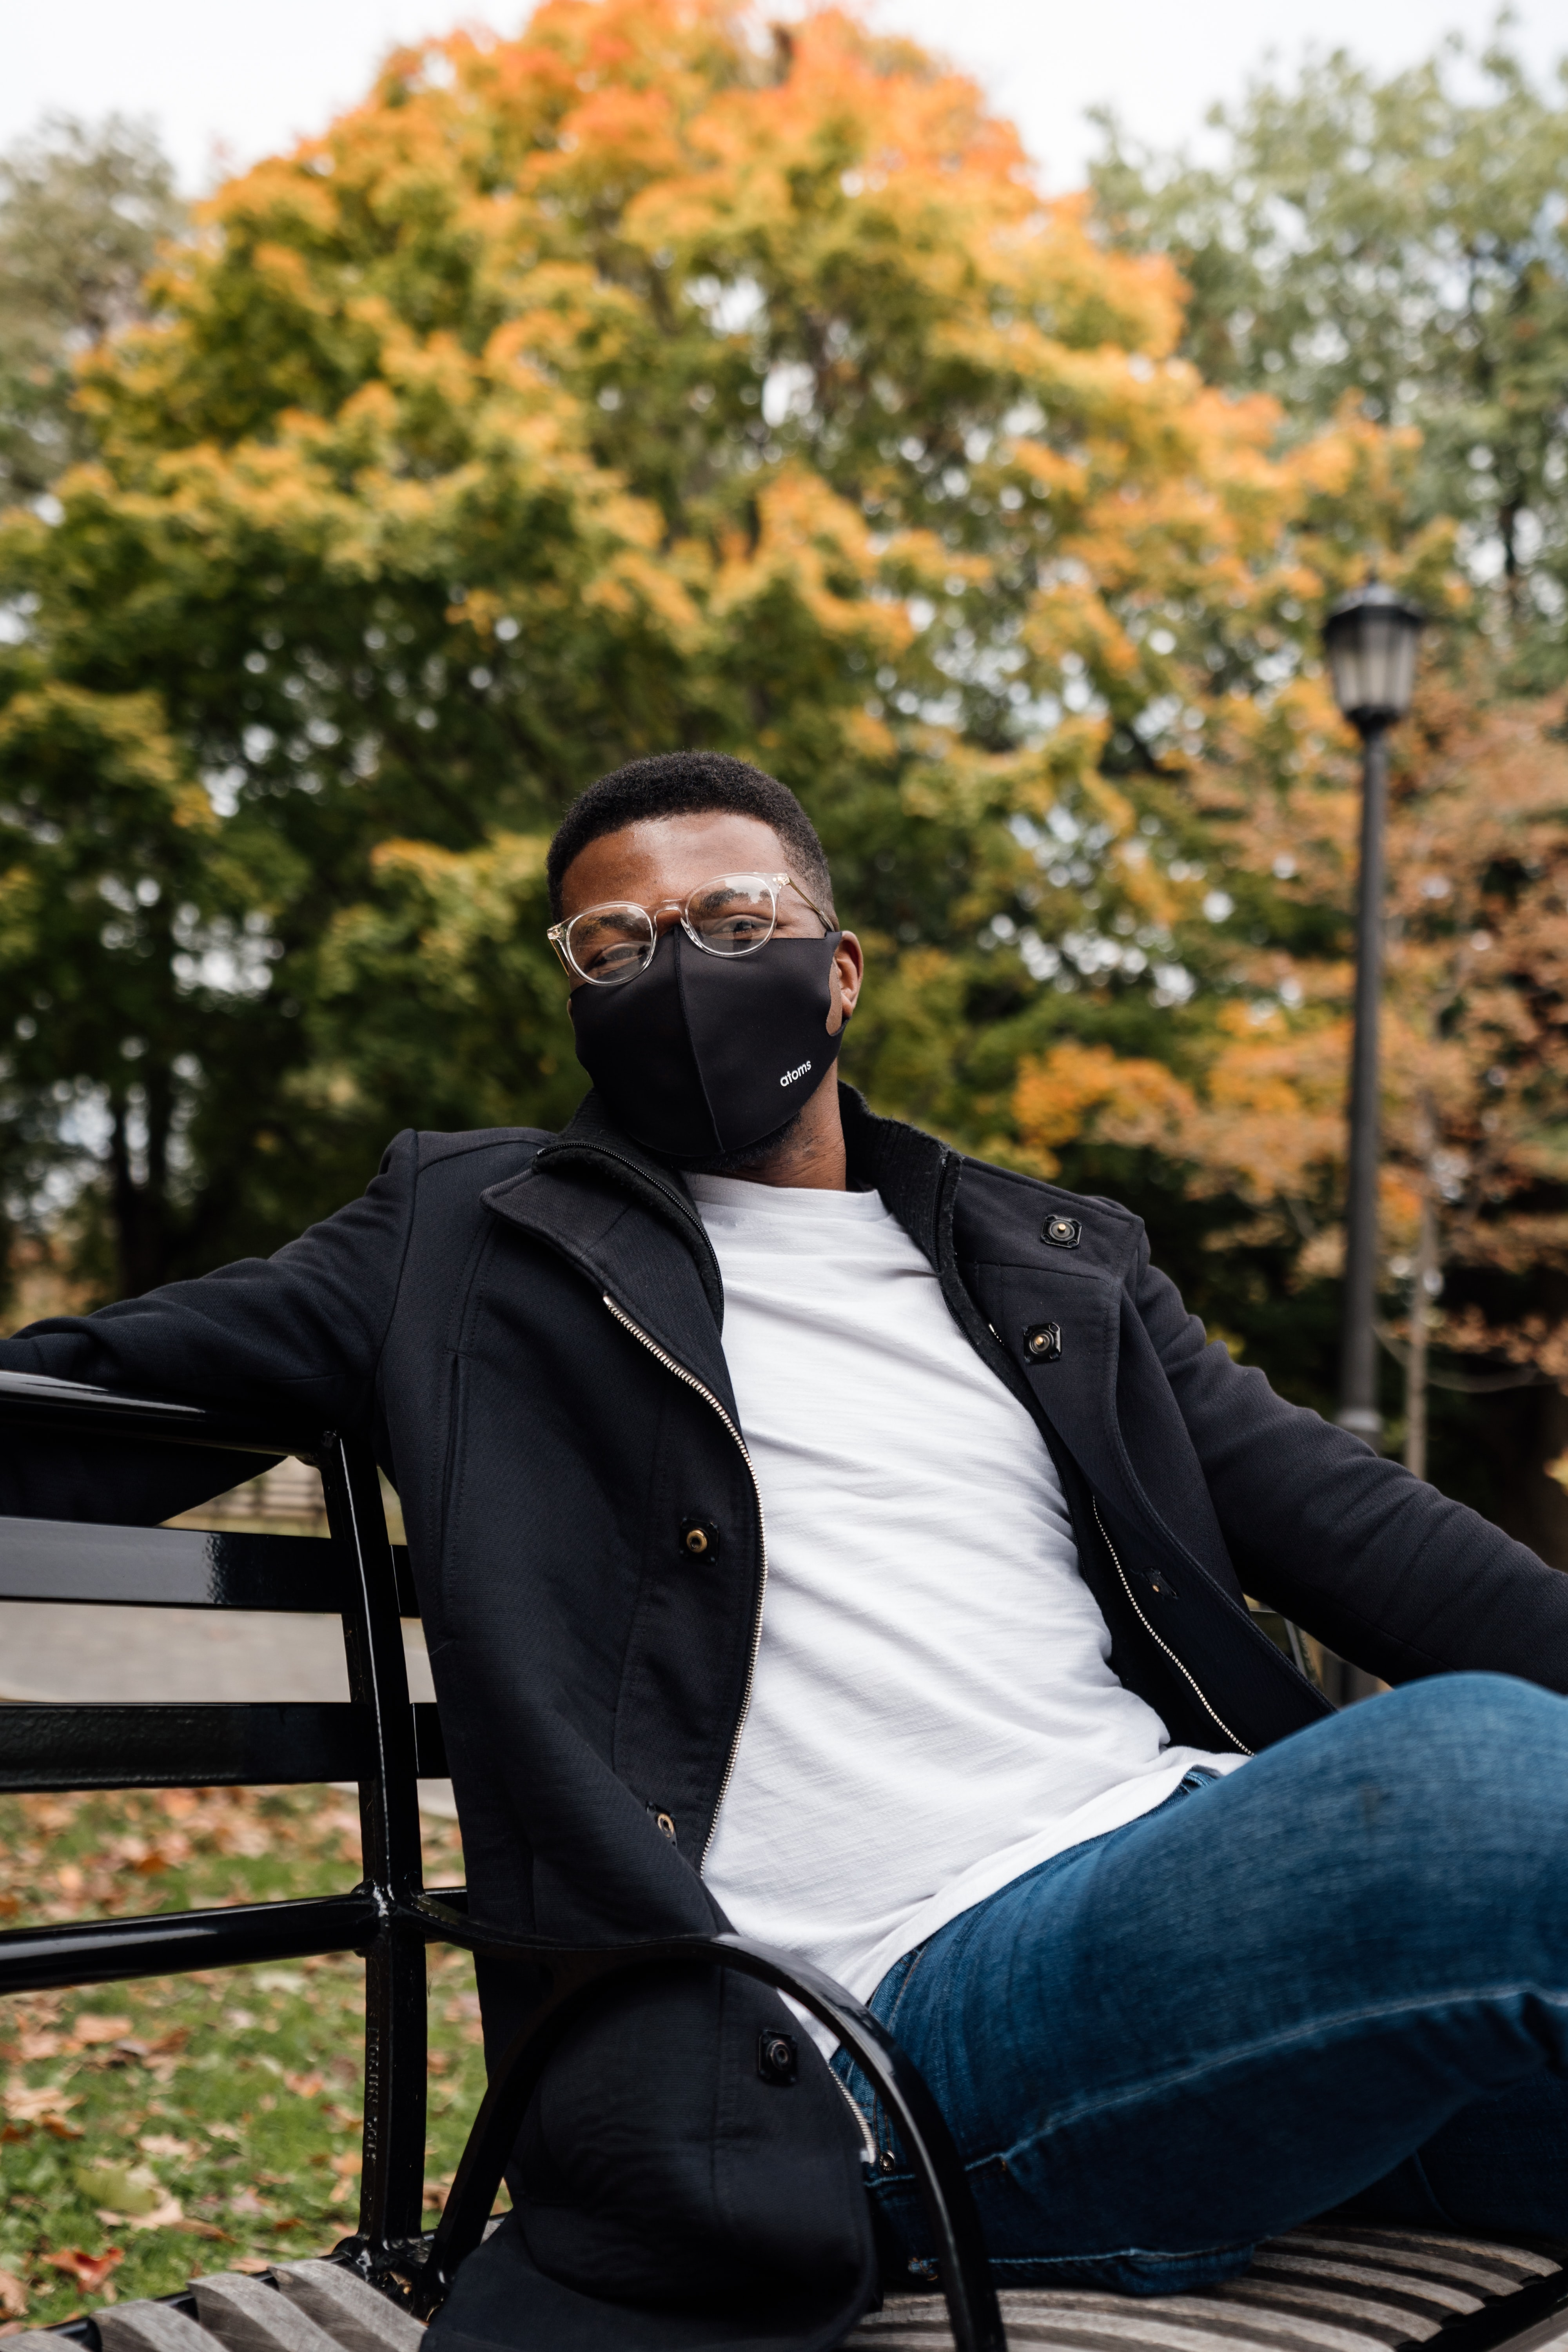mask: (543, 955, 846, 1174)
person: (172, 696, 1568, 2283)
